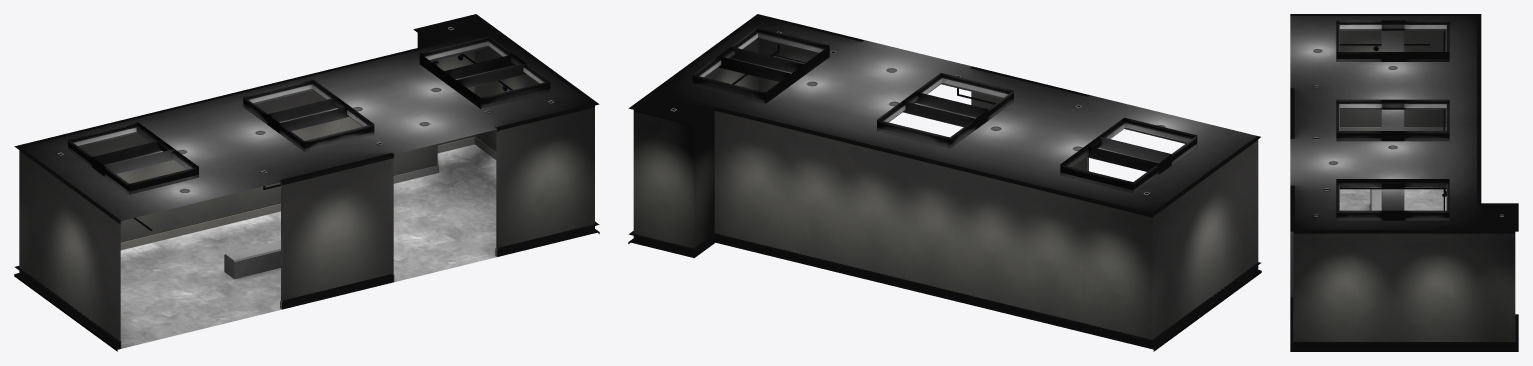
Rendered from Room_3.glb.
The picture shows the model from 3 angles, left to right: view 1: azimuth 30°, elevation 25°; view 2: azimuth 150°, elevation 25°; view 3: azimuth 270°, elevation 25°; orthographic projection. The views are drawn at different scales.
Parts seen in each view (by area): view 1: room_3.001; view 2: room_3.001; view 3: room_3.001.
Boxes of the visible parts, box(x1,y1,x2,y2) form: room_3.001: box(14, 14, 599, 351); room_3.001: box(628, 14, 1261, 351); room_3.001: box(1290, 14, 1518, 351).
Size of the model in its own units: 11.88 by 3.32 by 5.27.
3 materials, 3 textured.
